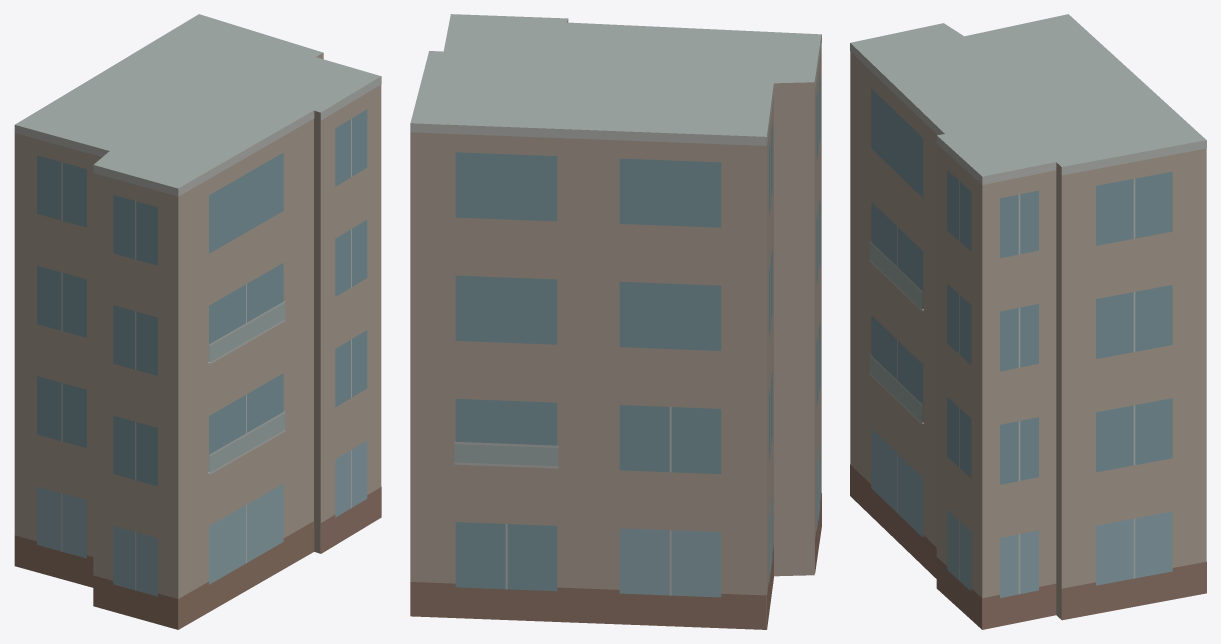
The model's file is survey-upis-32972995.glb.
3 views of the same model, side by side, from view 1: azimuth 30°, elevation 25°; view 2: azimuth 150°, elevation 25°; view 3: azimuth 270°, elevation 25° (orthographic). The views are drawn at different scales.
Parts seen in each view (by area): view 1: survey-upis-32972995.tmp; view 2: survey-upis-32972995.tmp; view 3: survey-upis-32972995.tmp.
Part boxes in pixels (x1,y1,x2,y2): survey-upis-32972995.tmp: [14, 14, 381, 629]; survey-upis-32972995.tmp: [410, 14, 821, 629]; survey-upis-32972995.tmp: [850, 14, 1206, 629].
Bounding box in the file's own units: 10.25 × 13.3 × 9.5.
